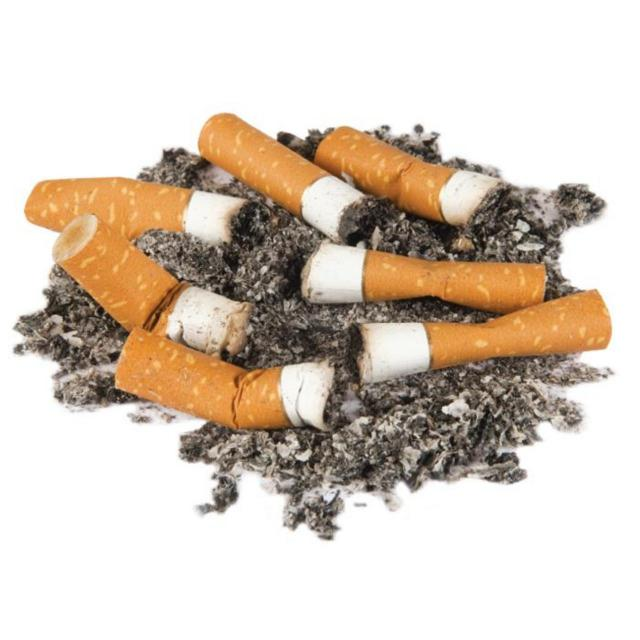cigarette: (53, 214, 255, 361), (350, 289, 615, 387), (197, 112, 378, 247), (116, 327, 336, 430), (315, 126, 509, 226), (301, 243, 547, 315), (24, 177, 248, 253)
